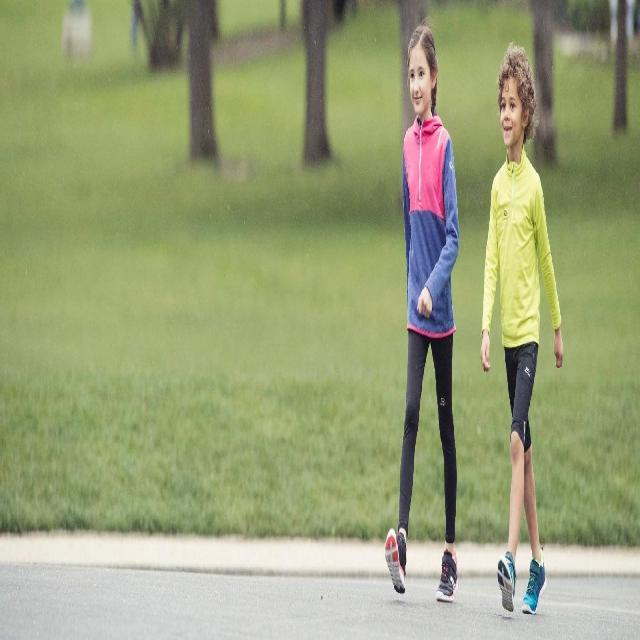Person: (480, 45, 562, 616), (386, 26, 458, 601)
